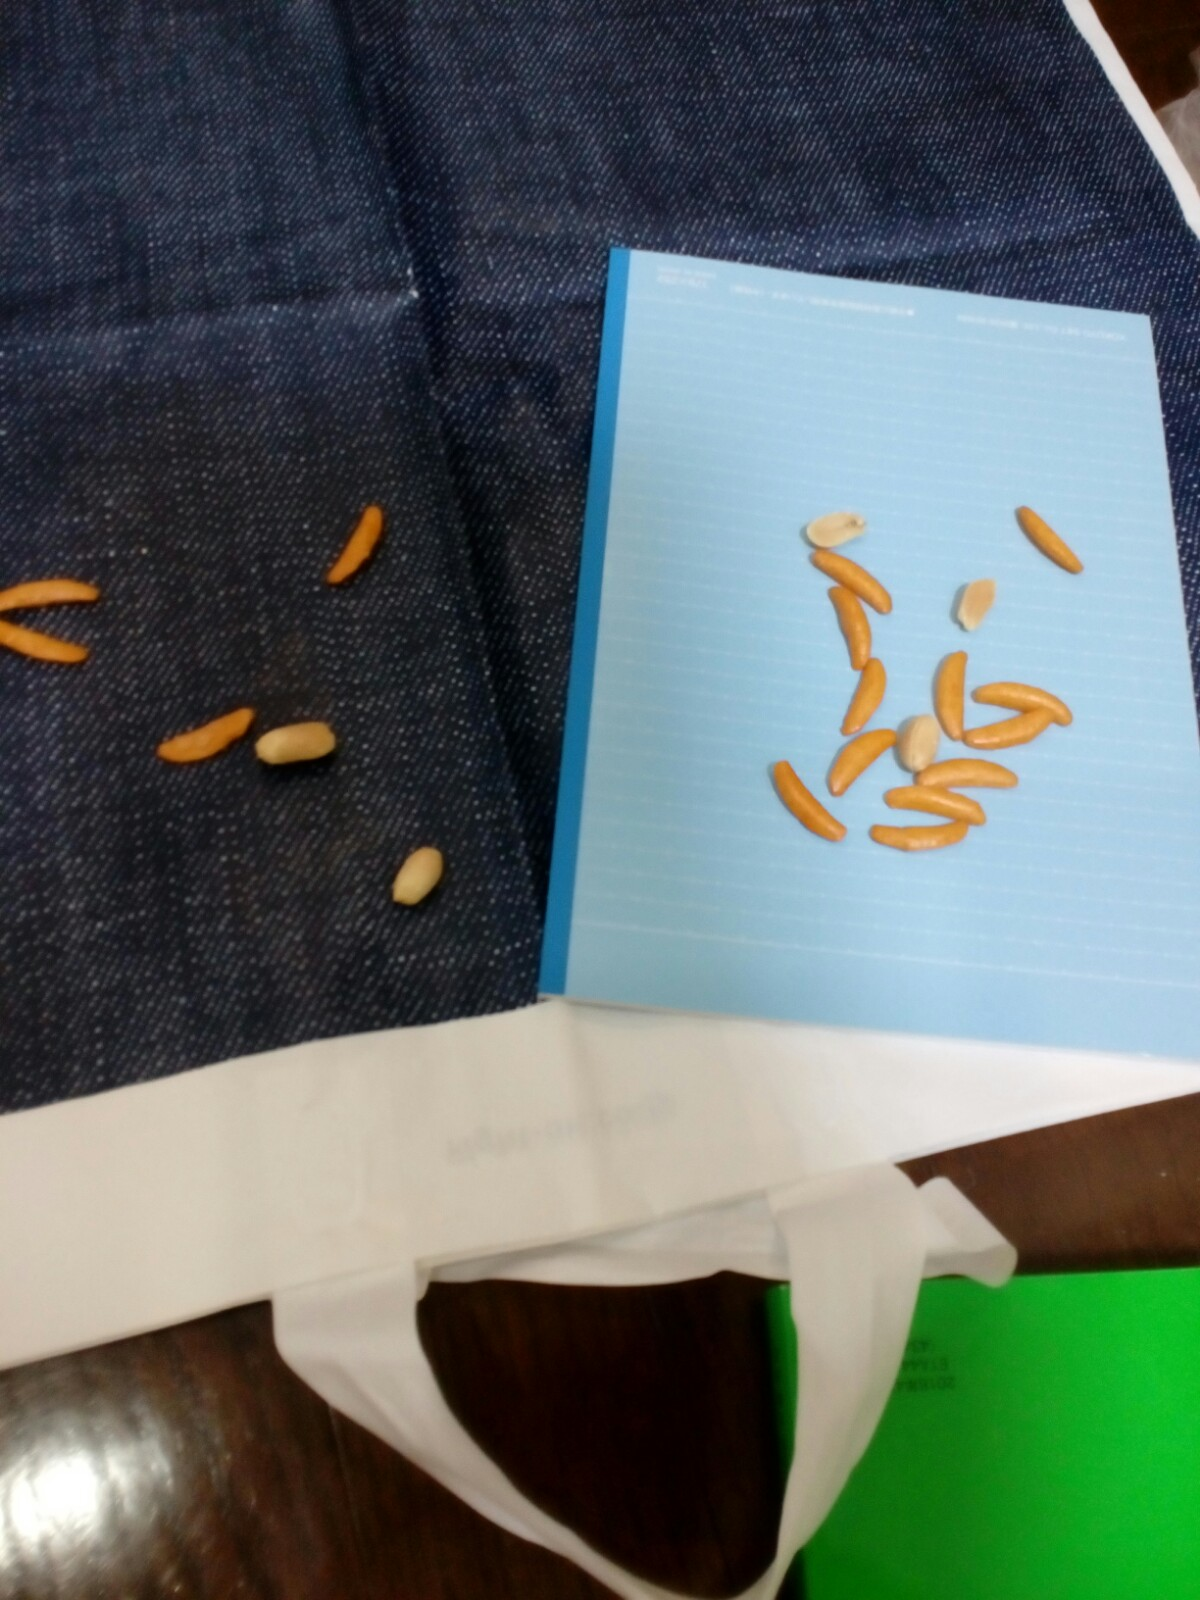peanut: (250, 699, 355, 789), (384, 833, 447, 912), (945, 567, 1007, 646), (899, 706, 945, 776), (811, 506, 867, 563)
